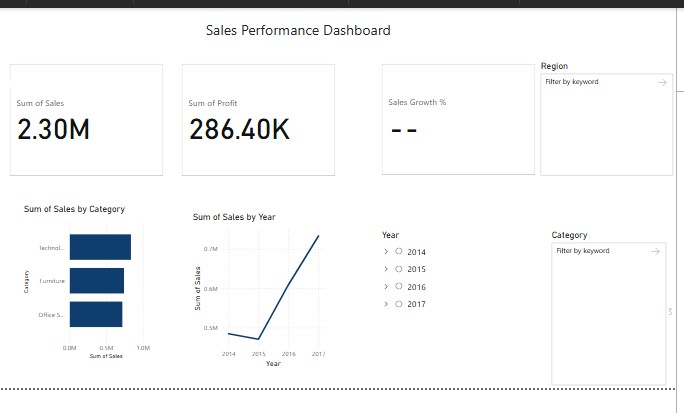

Layout of this report page (visuals, bound fields, positions):
{"tool":"powerbi","page":{"name":"Page 1","canvas":[1280,720],"ordinal":0},"visuals":[{"type":"qnaVisual","box":[1052.8,520.7,227.2,198.8],"z":0},{"type":"qnaVisual","box":[1039.5,520.7,240.5,198.8],"z":1000},{"type":"cardVisual","fields":{"Data":["Sum(Sample - Superstore.Sales)"]},"box":[13.3,100.4,301.1,223.4],"z":2000},{"type":"qnaVisual","box":[1052.8,535.9,227.2,168.5],"z":3000},{"type":"cardVisual","fields":{"Data":["Sample - Superstore.Sales Growth %"]},"box":[717.6,100.4,301.1,221.5],"z":4000},{"type":"cardVisual","fields":{"Data":["Sum(Sample - Superstore.Profit)"]},"box":[338.9,100.4,301.1,223.4],"z":5000},{"type":"lineChart","fields":{"Category":["Sample - Superstore.Order Date.Variation.Date Hierarchy.Year","Sample - Superstore.Order Date.Variation.Date Hierarchy.Quarter","Sample - Superstore.Order Date.Variation.Date Hierarchy.Month","Sample - Superstore.Order Date.Variation.Date Hierarchy.Day"],"Y":["Sum(Sample - Superstore.Sales)"]},"box":[359.8,386.3,261.3,299.2],"z":6000},{"type":"textSlicer","fields":{"Values":["Sample - Superstore.Category"]},"box":[1039.5,420.4,227.2,299.2],"z":6001},{"type":"listSlicer","fields":{"Values":["Sample - Superstore.Order Date.Variation.Date Hierarchy.Year","Sample - Superstore.Order Date.Variation.Date Hierarchy.Quarter","Sample - Superstore.Order Date.Variation.Date Hierarchy.Month","Sample - Superstore.Order Date.Variation.Date Hierarchy.Day"]},"box":[717.6,420.4,227.2,299.2],"z":6002},{"type":"textSlicer","fields":{"Values":["Sample - Superstore.Region"]},"box":[1018.7,100.4,261.3,221.5],"z":6004},{"type":"clusteredBarChart","fields":{"Category":["Sample - Superstore.Category"],"Y":["Sum(Sample - Superstore.Sales)"]},"box":[39.8,371.1,249.9,299.2],"z":6005},{"type":"qnaVisual","box":[13.3,136.3,13.3,13.3],"z":6007},{"type":"textbox","box":[384.4,17,465.8,83.3],"z":6008}]}

Visuals, with their boxes on the page's 1280x720 design canvas (x1, y1, x2, y2). These are canvas units, not pixel positions in the 684x413 screenshot, which may show the page scaled, cropped or inside an application window:
qnaVisual: [1053,521,1280,720]
qnaVisual: [1040,521,1280,720]
cardVisual - Sum(Sample - Superstore.Sales): [13,100,314,324]
qnaVisual: [1053,536,1280,704]
cardVisual - Sample - Superstore.Sales Growth %: [718,100,1019,322]
cardVisual - Sum(Sample - Superstore.Profit): [339,100,640,324]
lineChart - Sample - Superstore.Order Date.Variation.Date Hierarchy.Year x Sample - Superstore.Order Date.Variation.Date Hierarchy.Quarter: [360,386,621,686]
textSlicer - Sample - Superstore.Category: [1040,420,1267,720]
listSlicer - Sample - Superstore.Order Date.Variation.Date Hierarchy.Year x Sample - Superstore.Order Date.Variation.Date Hierarchy.Quarter: [718,420,945,720]
textSlicer - Sample - Superstore.Region: [1019,100,1280,322]
clusteredBarChart - Sample - Superstore.Category x Sum(Sample - Superstore.Sales): [40,371,290,670]
qnaVisual: [13,136,27,150]
textbox: [384,17,850,100]
